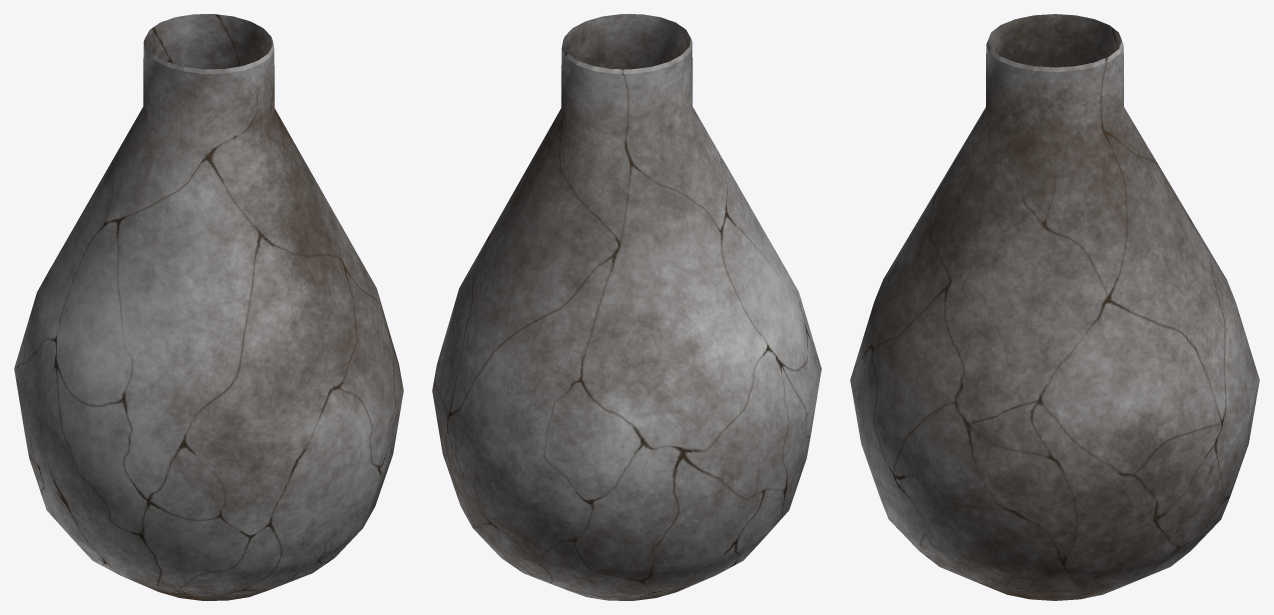
Rendered from bottle_fbx.fbx.
3 views of the same model, side by side, from view 1: azimuth 30°, elevation 25°; view 2: azimuth 150°, elevation 25°; view 3: azimuth 270°, elevation 25° (orthographic).
Parts seen in each view (by area): view 1: bottle; view 2: bottle; view 3: bottle.
Boxes of the visible parts, x1,y1,x2,y2 form: bottle: [14, 14, 403, 600]; bottle: [432, 14, 821, 600]; bottle: [850, 14, 1259, 600].
Bounding box in the file's own units: 23.26 × 35.08 × 24.66.
